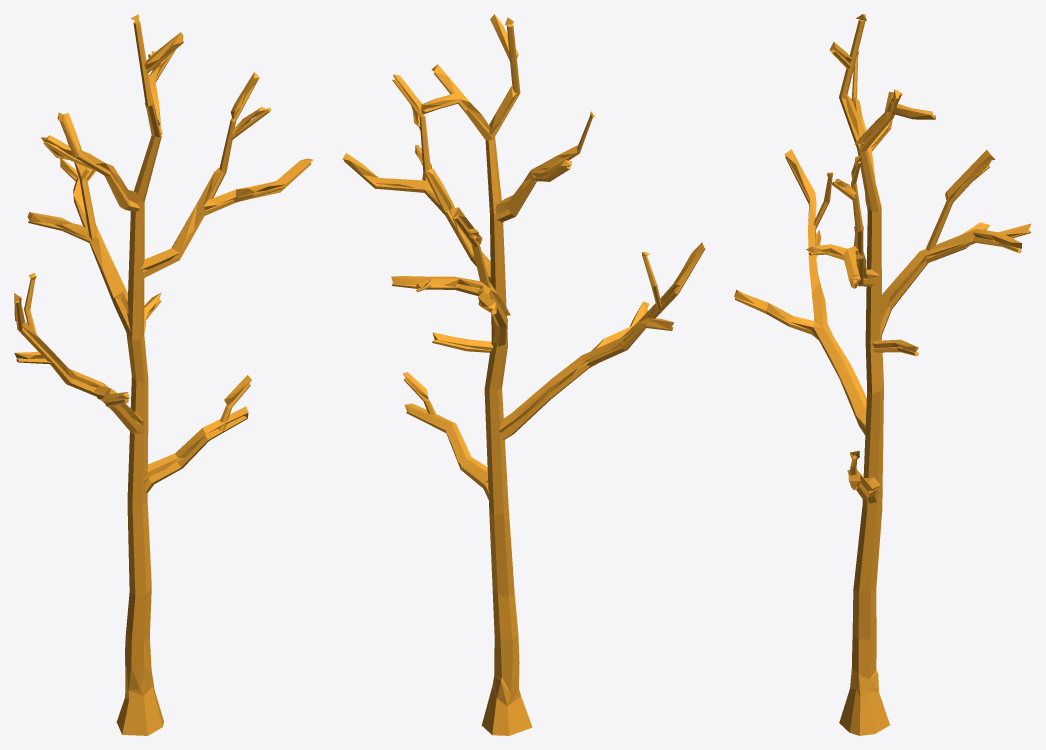
Rendered from SM_Tree_Beech_Young_A_Bare_Snow.fbx.
The picture shows the model from 3 angles, left to right: view 1: azimuth 30°, elevation 25°; view 2: azimuth 150°, elevation 25°; view 3: azimuth 270°, elevation 25°; orthographic projection.
Visible parts, largest first — view 1: tree-beech-young-a-bare-snow; view 2: tree-beech-young-a-bare-snow; view 3: tree-beech-young-a-bare-snow.
Boxes of the visible parts, box(x1,y1,x2,y2) form: tree-beech-young-a-bare-snow: box(14, 14, 313, 735); tree-beech-young-a-bare-snow: box(342, 14, 705, 735); tree-beech-young-a-bare-snow: box(734, 14, 1031, 735).
Bounding box in the file's own units: 2.67 × 5.51 × 2.1.
